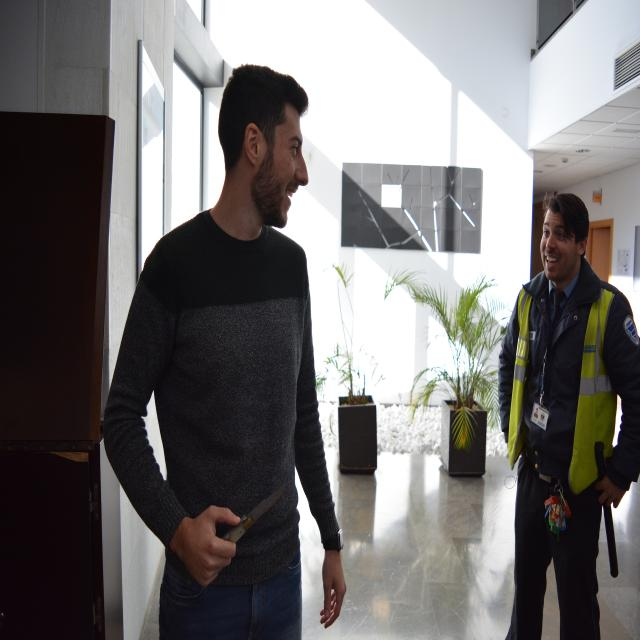knife: (227, 479, 287, 562)
